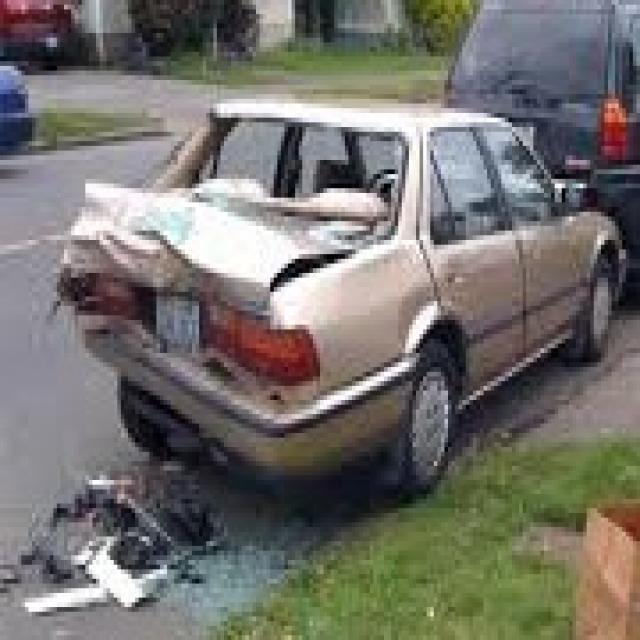moderate: (0, 141, 496, 602)
